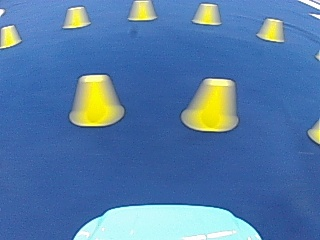cone: (182, 78, 238, 132), (69, 73, 123, 127), (257, 17, 283, 42), (192, 3, 221, 25), (63, 6, 89, 28), (128, 0, 155, 21), (1, 24, 21, 48)
